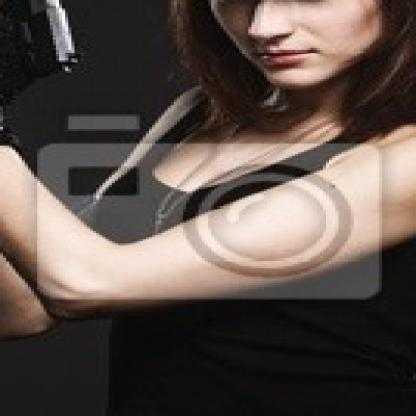gun: (0, 0, 93, 94)
